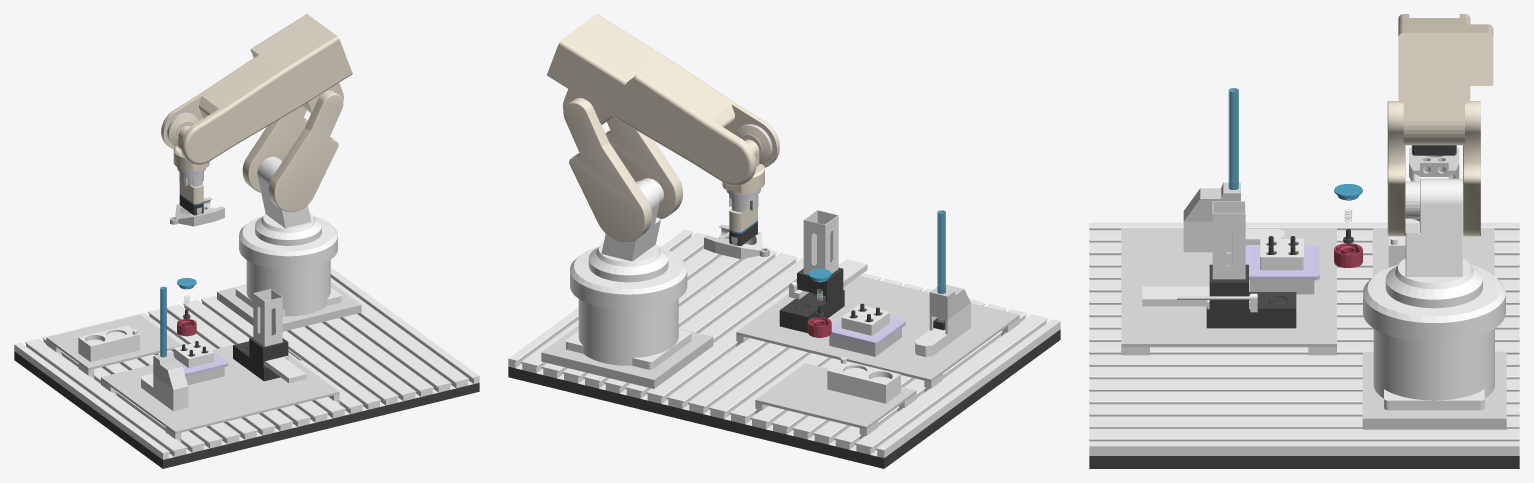
The model's file is assembly-robot-trial.glb.
3 views of the same model, side by side, from view 1: azimuth 30°, elevation 25°; view 2: azimuth 150°, elevation 25°; view 3: azimuth 270°, elevation 25° (orthographic). The views are drawn at different scales.
Parts seen in each view (by area): view 1: Table, Elbow, Parts_Base, Base, Shoulder, FC_Platform, Assemble_Base, FS_Magazine, Arm_Robot_Base, Base_Shoulder, Assemble, Piston_Platform (+4 smaller); view 2: Table, Elbow, Base, Parts_Base, Shoulder, Assemble_Base, FC_Platform, Arm_Robot_Base, FS_Magazine, Piston_Platform, Base_Shoulder, Assemble (+4 smaller); view 3: Table, Base, Parts_Base, Elbow, Base_Shoulder, FC_Platform, Shoulder, Arm_Robot_Base, FS_Magazine, Piston_Platform, Assemble_Base, FC_Pusher (+5 smaller).
Boxes of the visible parts, x1,y1,x2,y2 form: Table: (14,267,479,468); Elbow: (161,14,352,164); Parts_Base: (101,341,339,442); Base: (235,216,341,316); Shoulder: (242,90,343,212); FC_Platform: (233,289,288,381); Assemble_Base: (46,314,181,378); FS_Magazine: (141,286,188,411); Arm_Robot_Base: (217,282,361,331); Base_Shoulder: (257,156,315,232); Assemble: (78,325,139,361); Piston_Platform: (169,342,228,385); Table: (508,229,1060,468); Elbow: (547,14,779,185); Base: (566,246,691,369); Parts_Base: (736,276,1019,392); Shoulder: (563,98,682,242); Assemble_Base: (755,363,916,439); FC_Platform: (779,210,844,333); Arm_Robot_Base: (541,325,713,388); FS_Magazine: (915,210,970,356); Piston_Platform: (829,304,905,356); Base_Shoulder: (596,178,663,266); Assemble: (827,357,900,403); Table: (1089,222,1519,468); Base: (1363,264,1505,410); Parts_Base: (1121,228,1336,355); Elbow: (1398,14,1493,145); Base_Shoulder: (1395,178,1473,289); FC_Platform: (1206,201,1296,328); Shoulder: (1387,101,1480,236); Arm_Robot_Base: (1362,351,1506,429); FS_Magazine: (1183,88,1284,252); Piston_Platform: (1245,238,1319,294); Assemble_Base: (1372,228,1494,276); FC_Pusher: (1142,286,1257,312).
Bounding box in the file's own units: 0.7363 × 0.6327 × 0.5985.
